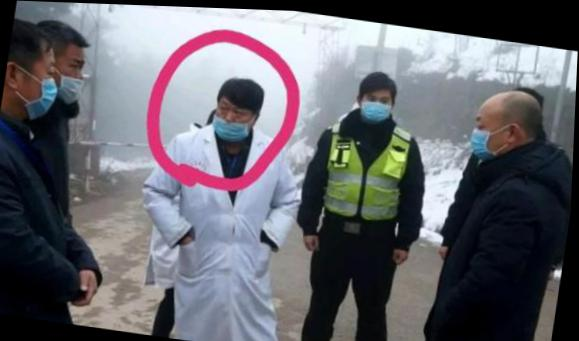OK: (22, 60, 63, 122), (470, 108, 509, 159), (360, 86, 394, 123)
WRONG: (55, 48, 91, 105), (213, 97, 256, 142)
